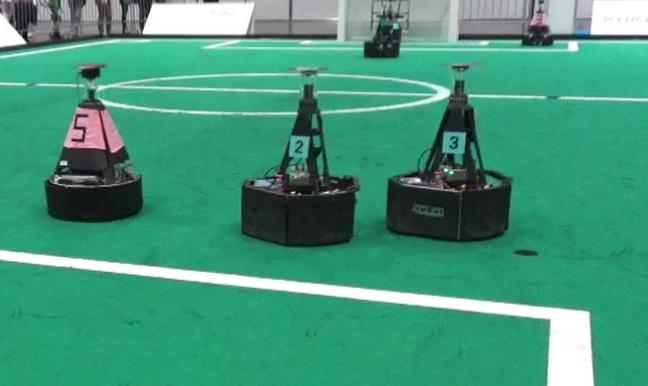robot: (382, 56, 514, 242), (239, 65, 359, 247), (40, 62, 145, 224)
